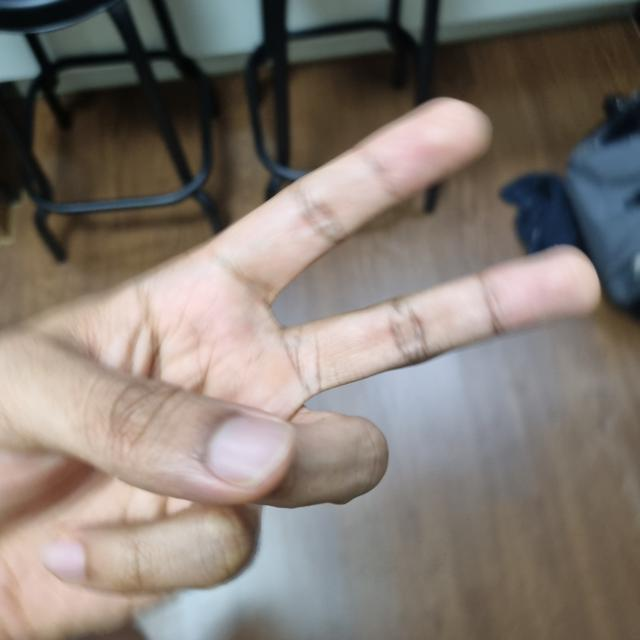Scissors: (0, 100, 588, 640)
